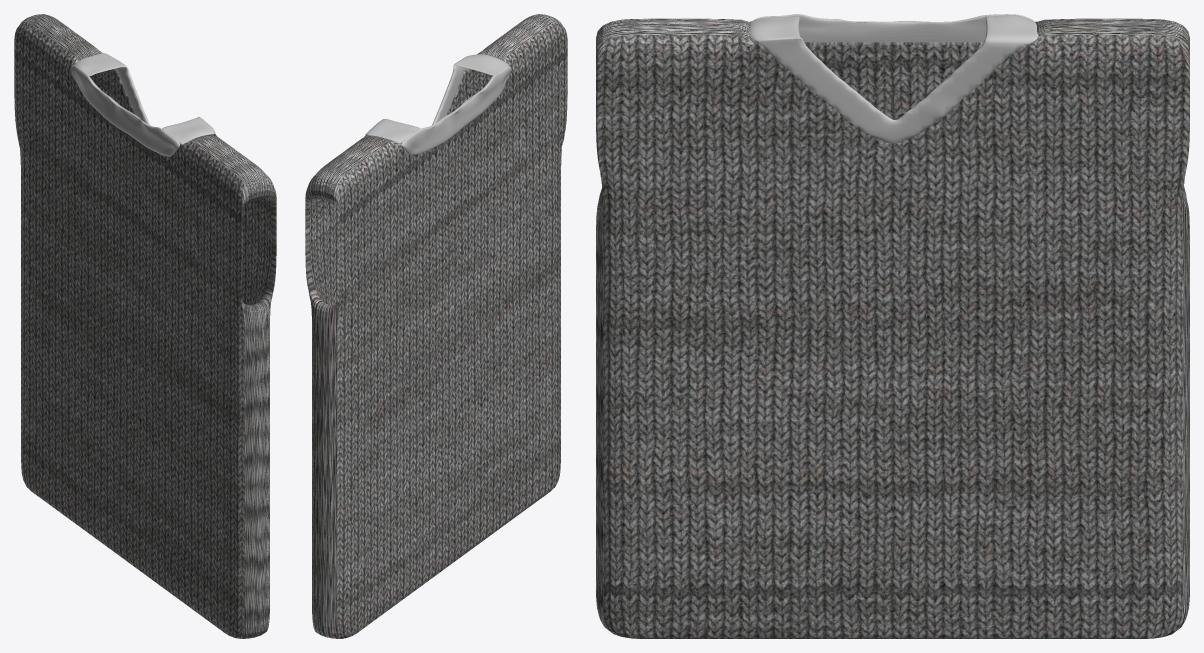
The model's file is v-neck.fbx.
3 views of the same model, side by side, from view 1: azimuth 30°, elevation 25°; view 2: azimuth 150°, elevation 25°; view 3: azimuth 270°, elevation 25° (orthographic). The views are drawn at different scales.
Parts seen in each view (by area): view 1: Cube.001, Plane.002, Plane.001; view 2: Cube.001, Plane.002, Plane.001; view 3: Cube.001, Plane.001, Plane.002.
Part boxes in pixels (<box>): Cube.001: <box>14,14,276,638</box>; Plane.002: <box>71,65,179,156</box>; Plane.001: <box>74,53,215,144</box>; Cube.001: <box>305,14,567,638</box>; Plane.002: <box>401,65,510,154</box>; Plane.001: <box>365,54,508,143</box>; Cube.001: <box>596,18,1189,638</box>; Plane.001: <box>750,15,1038,143</box>; Plane.002: <box>754,14,1033,42</box>.
Size of the model in its own units: 17.81 by 179 by 159.
